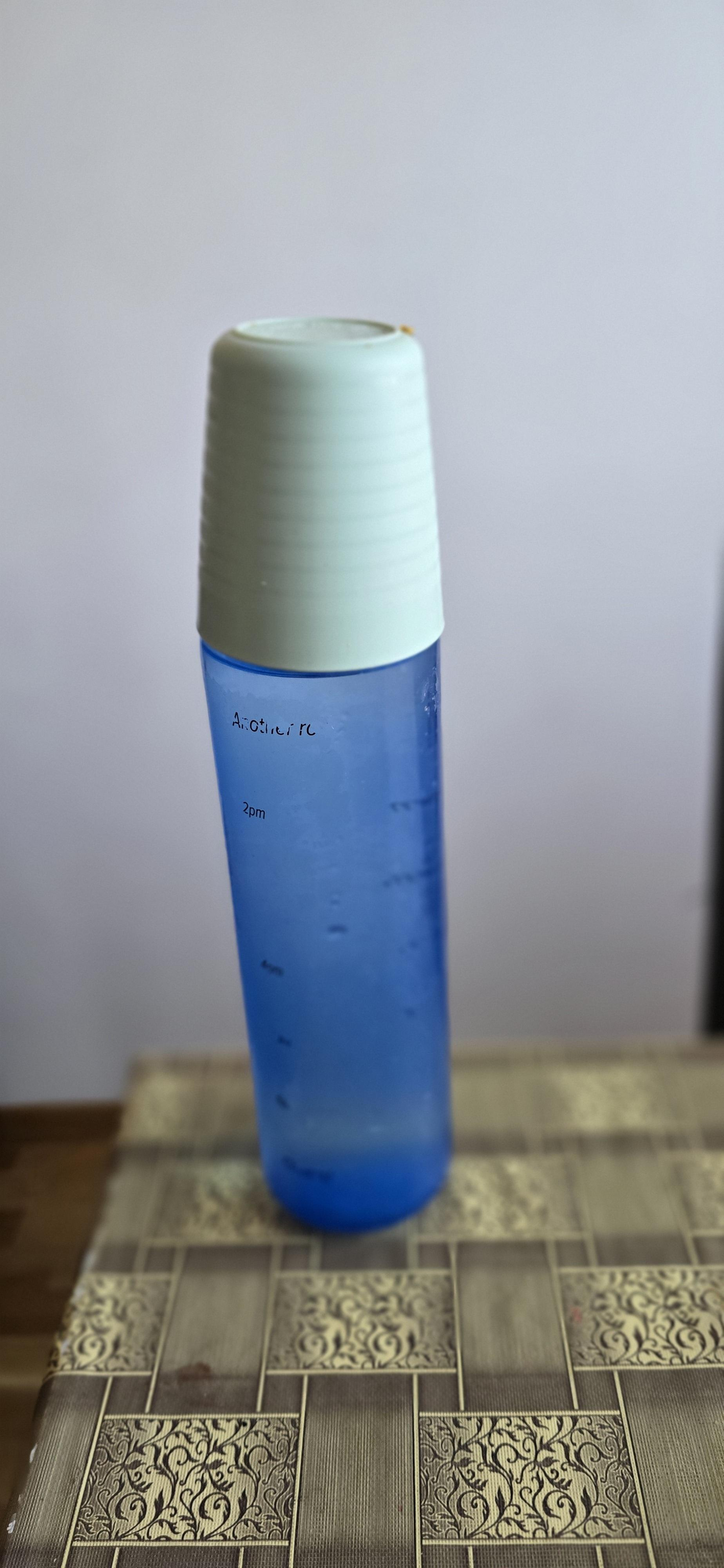bottle: (192, 655, 442, 1248)
